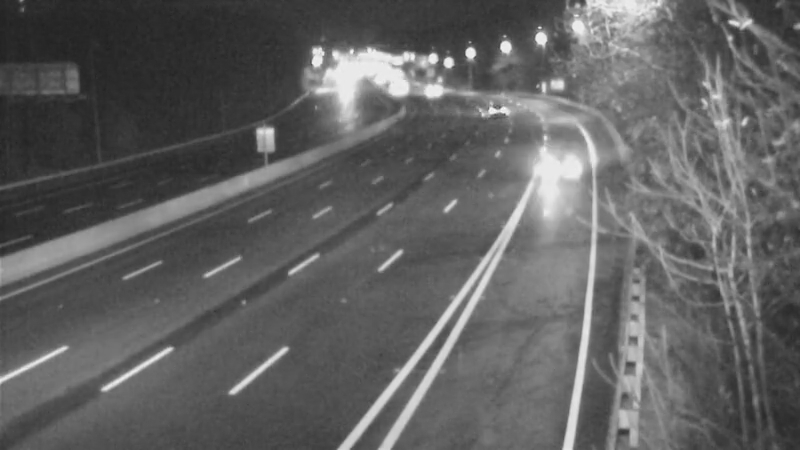vehicle: (517, 132, 597, 212), (402, 68, 452, 118), (463, 83, 513, 133)
